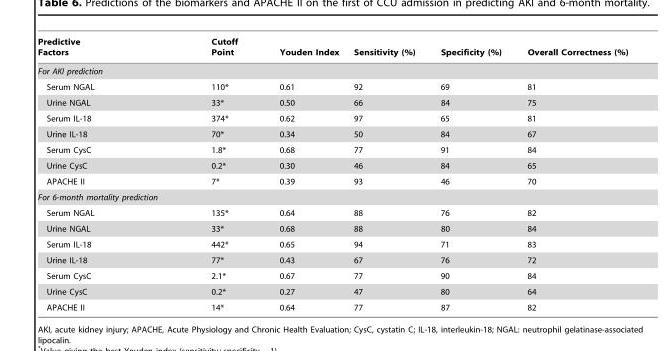table: (37, 37, 627, 311)
table column: (37, 37, 152, 311), (513, 37, 627, 311), (152, 37, 257, 311), (257, 37, 345, 311), (427, 37, 513, 311), (345, 37, 427, 311)
table column header: (37, 37, 627, 61)
table projected row header: (37, 61, 627, 78), (37, 189, 627, 204)
table row: (37, 37, 627, 61), (37, 61, 627, 78), (37, 78, 627, 94), (37, 94, 627, 110), (37, 110, 627, 126), (37, 141, 627, 157), (37, 157, 627, 173), (37, 173, 627, 189), (37, 204, 627, 220), (37, 220, 627, 236), (37, 236, 627, 252), (37, 267, 627, 283), (37, 283, 627, 299), (37, 126, 627, 141), (37, 189, 627, 204), (37, 252, 627, 267), (37, 299, 627, 311)
